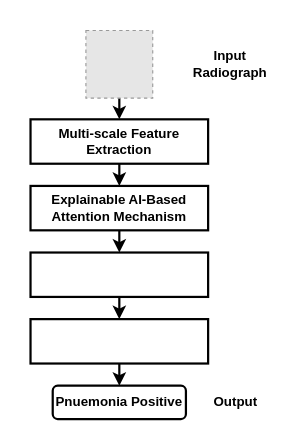
Image size: 299x448. Some labels were removed from this diagram. Grey dashed boxes stand in for pictures. The shapes that lost their labels are listed below. From the top down, each one's centre as x and y in pixels, then its label:
(x=119, y=274): Hybrid Loss Function
(x=119, y=340): Localization
